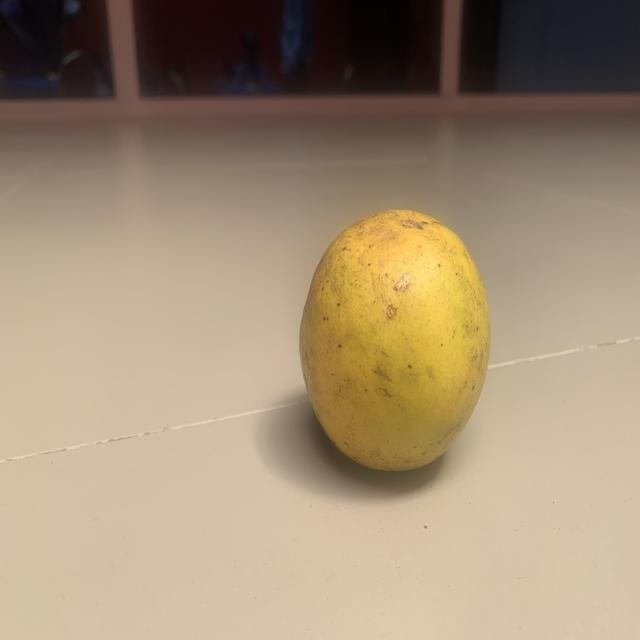agrume: (279, 193, 505, 493)
